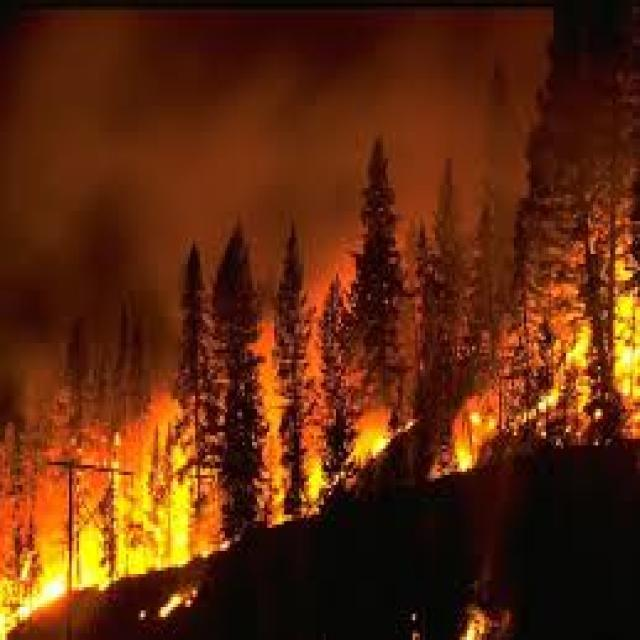Fire: (0, 385, 227, 637), (212, 312, 361, 522), (418, 589, 554, 640), (450, 392, 498, 474), (351, 409, 392, 466), (159, 590, 196, 620)
Smoke: (11, 29, 264, 270), (246, 33, 508, 187)
